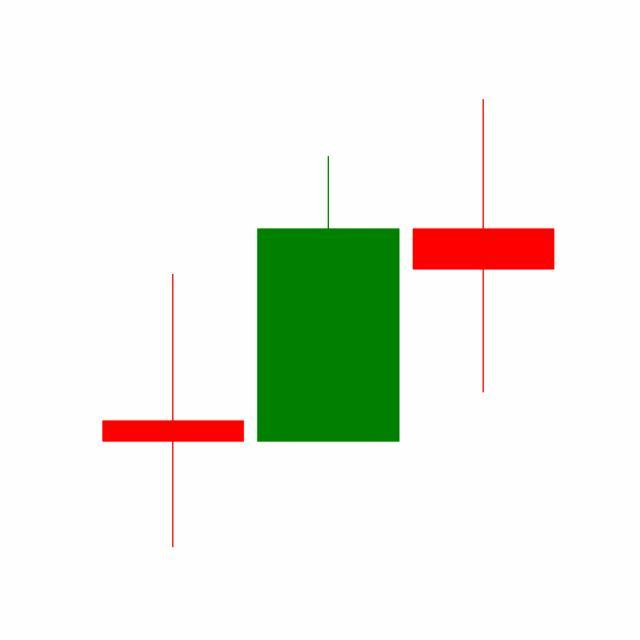Spinning Top: (406, 97, 562, 398)
